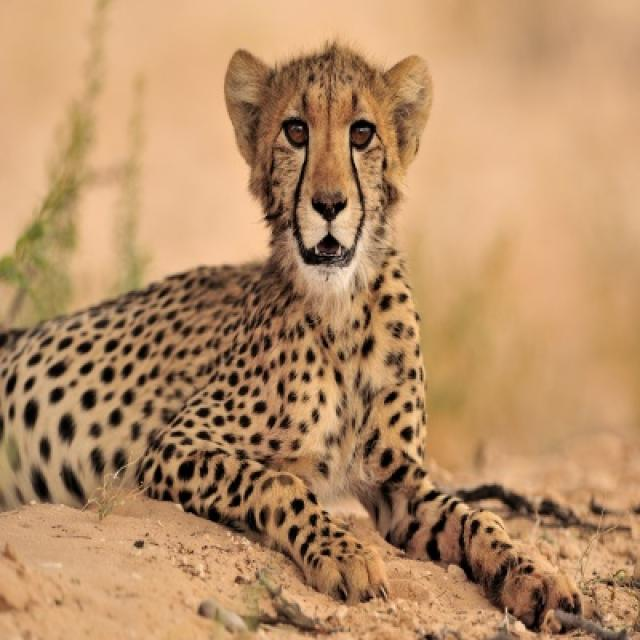Cheetah: (0, 40, 582, 632)
